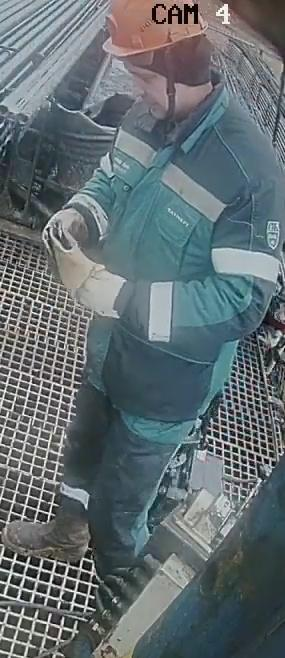gloves: (41, 207, 92, 254)
helmet: (100, 0, 211, 66)
vest: (94, 83, 254, 423)
